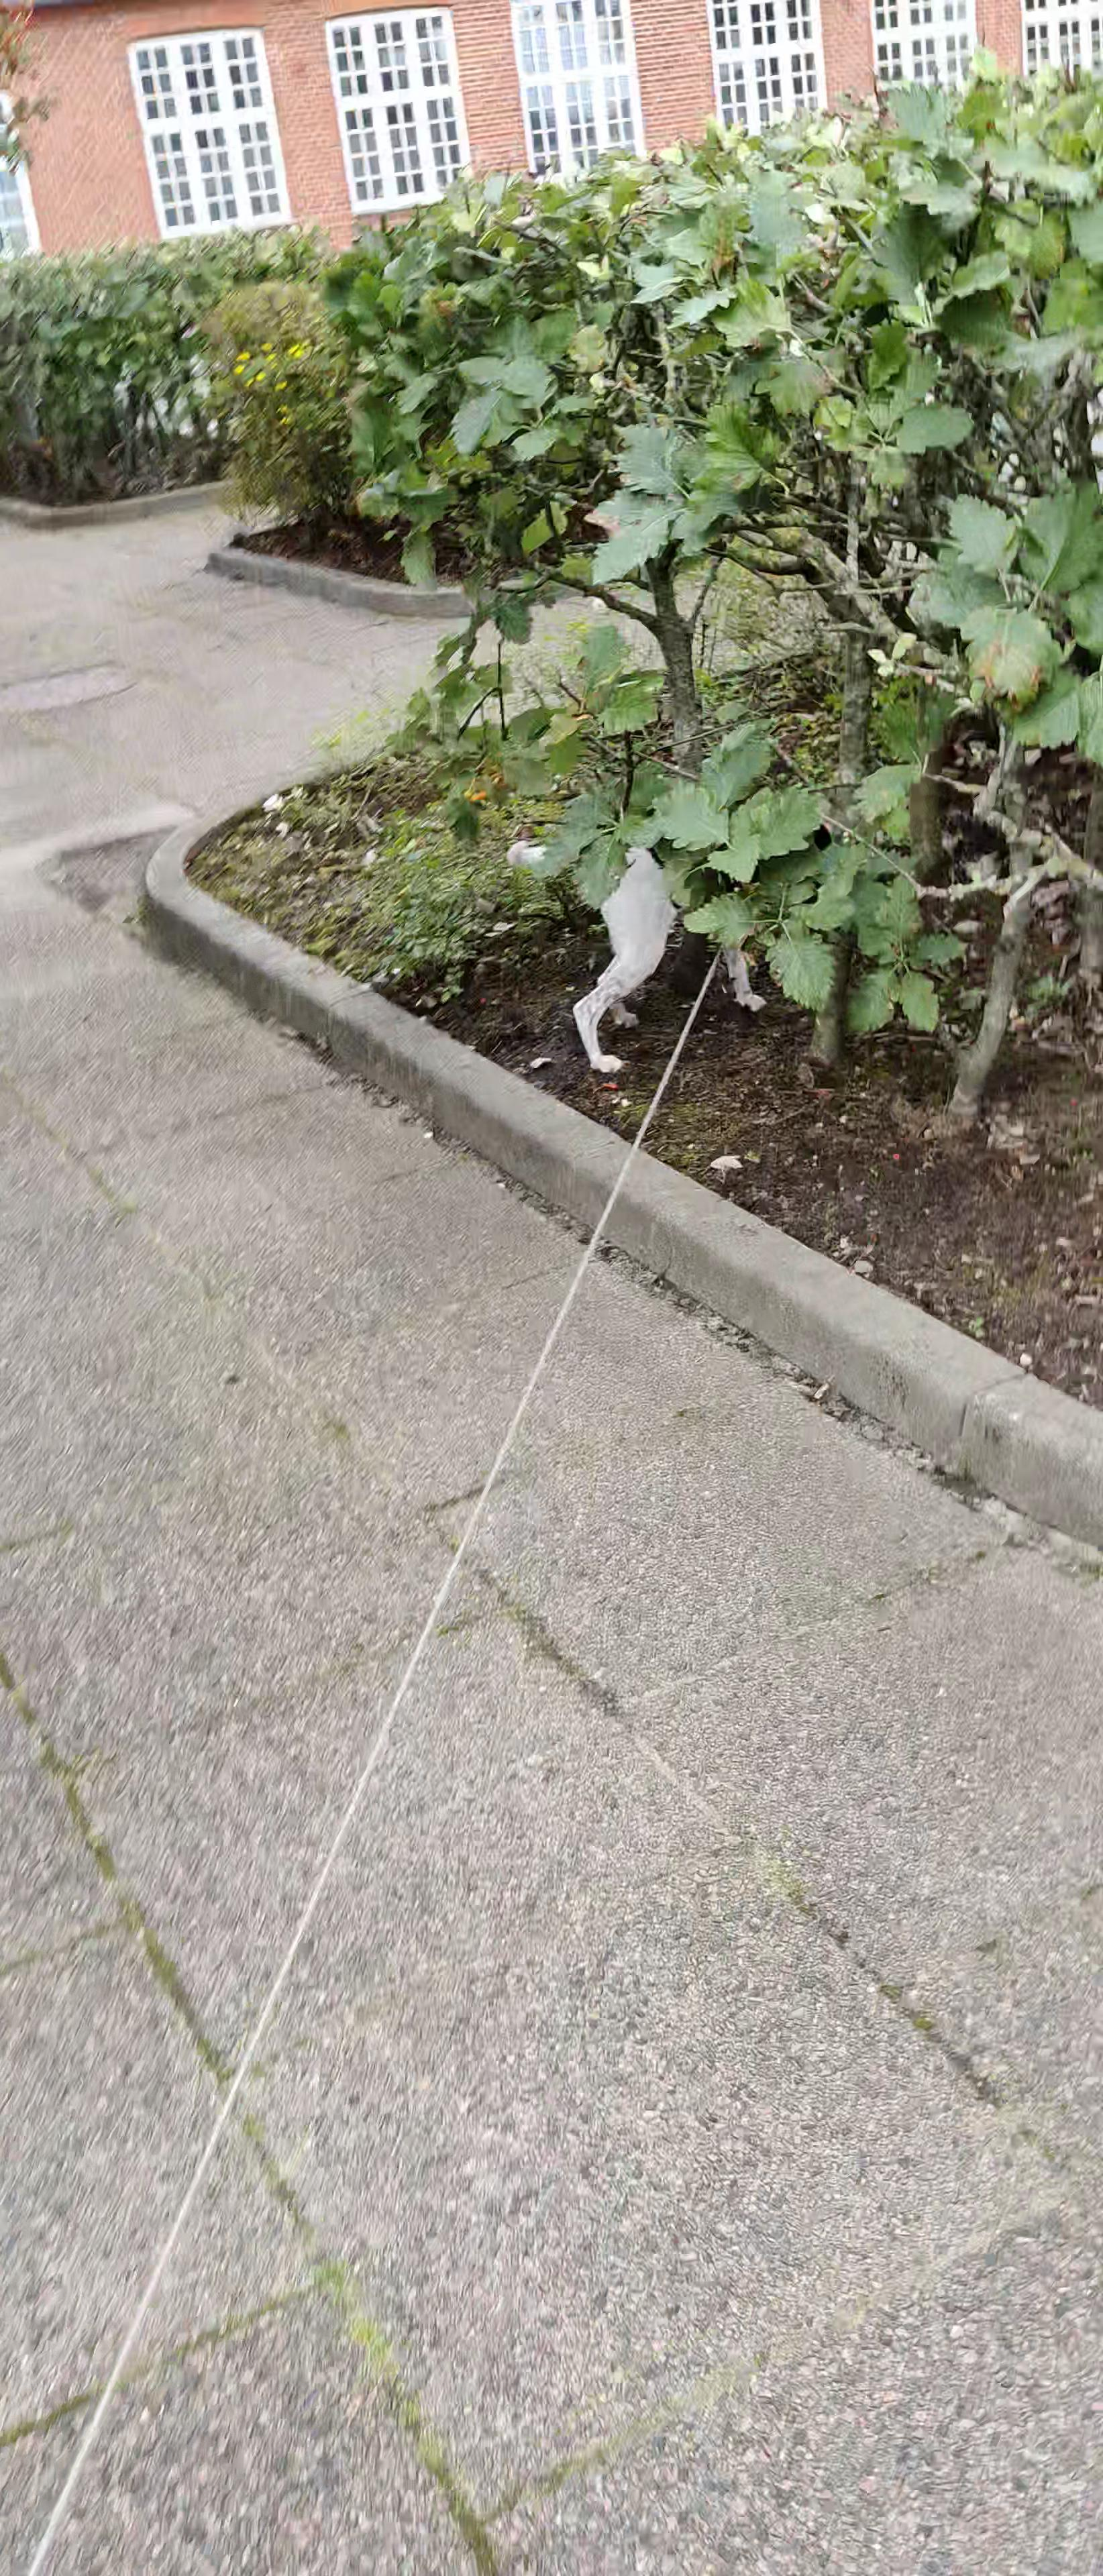Dog: (505, 815, 832, 1074)
